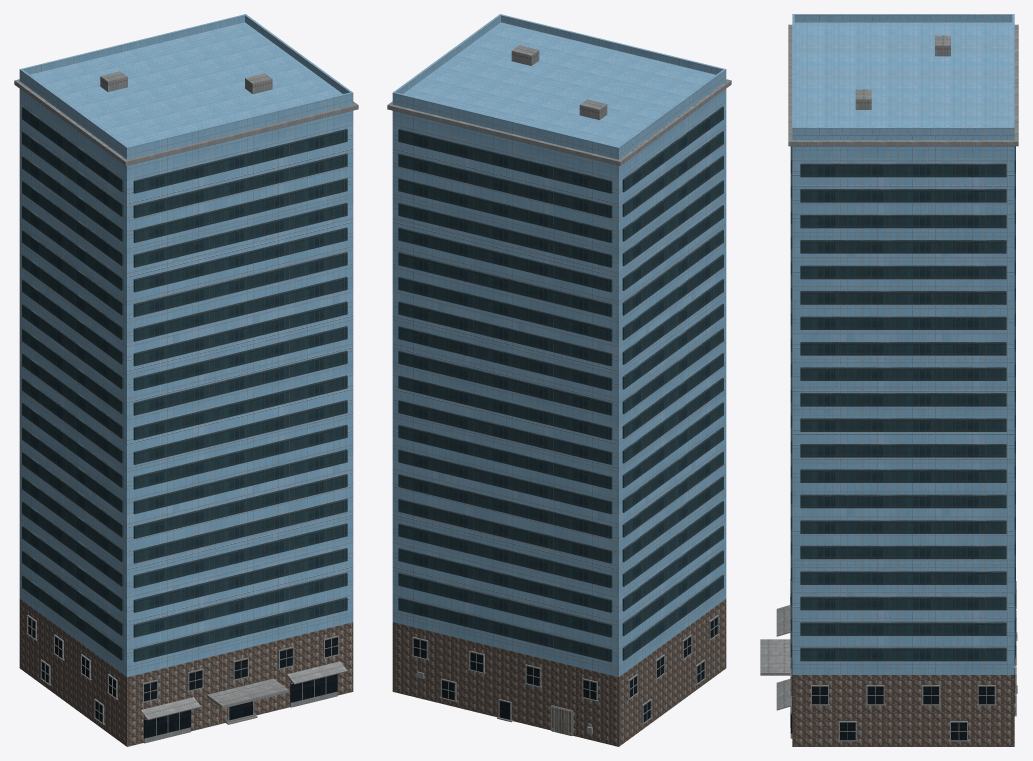
Rendered from jefferson-market-tower_lod0.gltf.
The picture shows the model from 3 angles, left to right: view 1: azimuth 30°, elevation 25°; view 2: azimuth 150°, elevation 25°; view 3: azimuth 270°, elevation 25°; orthographic projection. The views are drawn at different scales.
Visible parts, largest first — view 1: jefferson-market-tower_upper, jefferson-market-tower_fen_07-glass-curtain-blue_0, jefferson-market-tower_base, jefferson-market-tower_fen_07-glass-curtain-blue_2_t, jefferson-market-tower_fen_14-steel-panel_1, jefferson-market-tower__cornice, jefferson-market-tower__parapet_front, jefferson-market-tower__parapet_back, jefferson-market-tower__canopy, jefferson-market-tower__parapet_left, jefferson-market-tower__parapet_right, jefferson-market-tower__stall_a (+1 smaller); view 2: jefferson-market-tower_upper, jefferson-market-tower_fen_07-glass-curtain-blue_0, jefferson-market-tower_base, jefferson-market-tower__cornice, jefferson-market-tower_fen_14-steel-panel_1, jefferson-market-tower_fen_07-glass-curtain-blue_2_t, jefferson-market-tower__parapet_back, jefferson-market-tower__parapet_front, jefferson-market-tower__parapet_left, jefferson-market-tower__parapet_right; view 3: jefferson-market-tower_upper, jefferson-market-tower_fen_07-glass-curtain-blue_0, jefferson-market-tower_base, jefferson-market-tower__cornice, jefferson-market-tower_fen_07-glass-curtain-blue_2_t, jefferson-market-tower__parapet_left, jefferson-market-tower__parapet_right, jefferson-market-tower_fen_14-steel-panel_1, jefferson-market-tower__canopy.
Boxes of the visible parts, x1,y1,x2,y2 form: jefferson-market-tower_upper: (19, 22, 353, 677); jefferson-market-tower_fen_07-glass-curtain-blue_0: (22, 106, 347, 662); jefferson-market-tower_base: (19, 599, 353, 746); jefferson-market-tower_fen_07-glass-curtain-blue_2_t: (28, 617, 337, 738); jefferson-market-tower_fen_14-steel-panel_1: (26, 615, 340, 743); jefferson-market-tower__cornice: (14, 79, 358, 165); jefferson-market-tower__parapet_front: (126, 92, 353, 154); jefferson-market-tower__parapet_back: (19, 14, 246, 76); jefferson-market-tower__canopy: (207, 678, 288, 708); jefferson-market-tower__parapet_left: (20, 69, 127, 153); jefferson-market-tower__parapet_right: (245, 15, 351, 93); jefferson-market-tower__stall_a: (140, 697, 201, 720); jefferson-market-tower_upper: (392, 22, 726, 677); jefferson-market-tower_fen_07-glass-curtain-blue_0: (398, 106, 723, 662); jefferson-market-tower_base: (392, 599, 726, 746); jefferson-market-tower__cornice: (387, 79, 731, 165); jefferson-market-tower_fen_14-steel-panel_1: (411, 615, 719, 735); jefferson-market-tower_fen_07-glass-curtain-blue_2_t: (413, 617, 717, 722); jefferson-market-tower__parapet_back: (392, 92, 619, 154); jefferson-market-tower__parapet_front: (499, 14, 726, 76); jefferson-market-tower__parapet_left: (618, 69, 725, 153); jefferson-market-tower__parapet_right: (394, 15, 500, 93); jefferson-market-tower_upper: (792, 22, 1014, 674); jefferson-market-tower_fen_07-glass-curtain-blue_0: (790, 146, 1015, 661); jefferson-market-tower_base: (792, 675, 1014, 746); jefferson-market-tower__cornice: (788, 24, 1018, 146); jefferson-market-tower_fen_07-glass-curtain-blue_2_t: (790, 657, 1014, 740); jefferson-market-tower__parapet_left: (794, 14, 1012, 22); jefferson-market-tower__parapet_right: (794, 127, 1012, 135); jefferson-market-tower_fen_14-steel-panel_1: (790, 578, 1017, 741); jefferson-market-tower__canopy: (760, 639, 790, 675).
Bounding box in the file's own units: 35 × 86.5 × 32.5.
